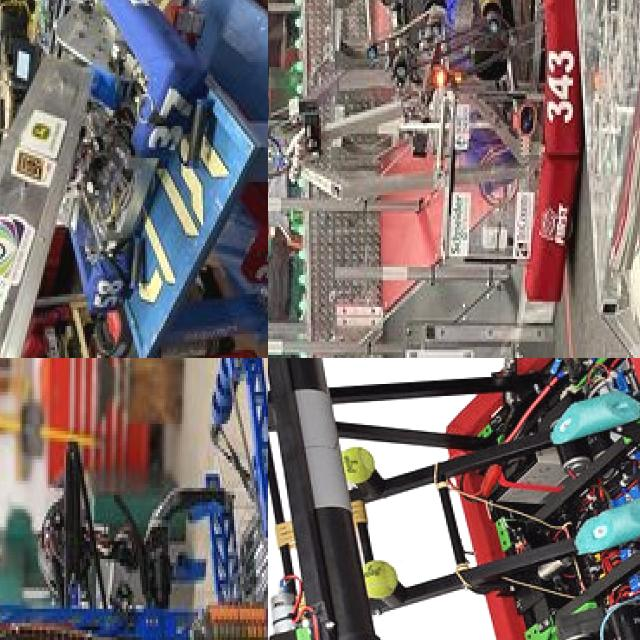FRC-Robots: (268, 0, 577, 358), (268, 358, 640, 640), (0, 0, 268, 358), (0, 358, 268, 640)
